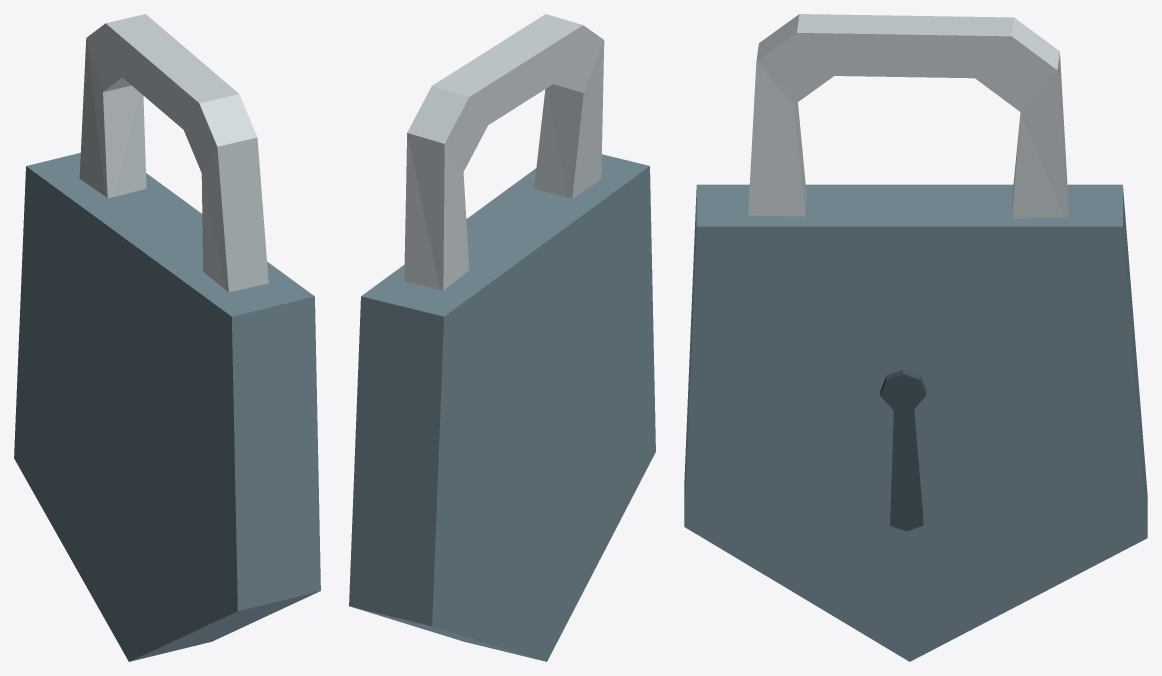
3 renders of one model, left to right at view 1: azimuth 30°, elevation 25°; view 2: azimuth 150°, elevation 25°; view 3: azimuth 270°, elevation 25°, orthographic. The views are drawn at different scales.
Parts seen in each view (by area): view 1: mesh_331019317, mesh_871613733; view 2: mesh_331019317, mesh_871613733; view 3: mesh_331019317, mesh_871613733, mesh_1013003272.
Part boxes in pixels (box(x1,y1,x2,y2)): mesh_331019317: box(14, 153, 320, 661); mesh_871613733: box(79, 14, 268, 291); mesh_331019317: box(349, 154, 655, 661); mesh_871613733: box(404, 14, 604, 290); mesh_331019317: box(684, 184, 1147, 661); mesh_871613733: box(748, 14, 1068, 218); mesh_1013003272: box(880, 369, 926, 531).
Size of the model in its own units: 9.05 by 54.81 by 37.31.
